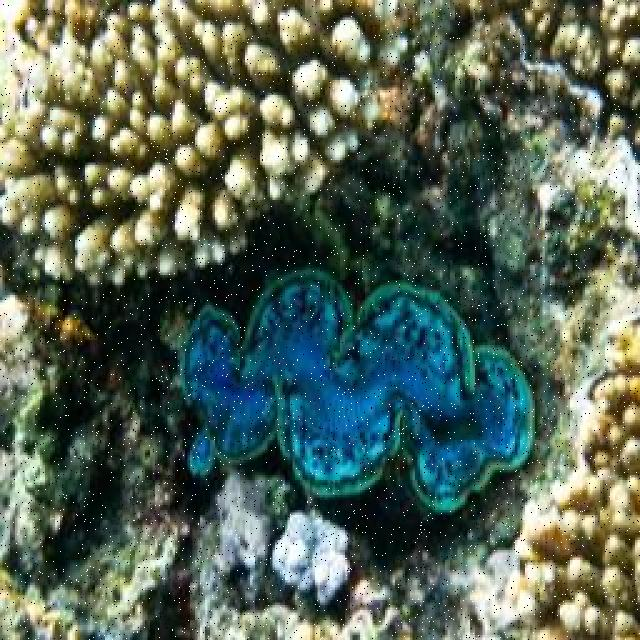reefs: (0, 1, 387, 288), (174, 269, 540, 514), (516, 322, 638, 638)
